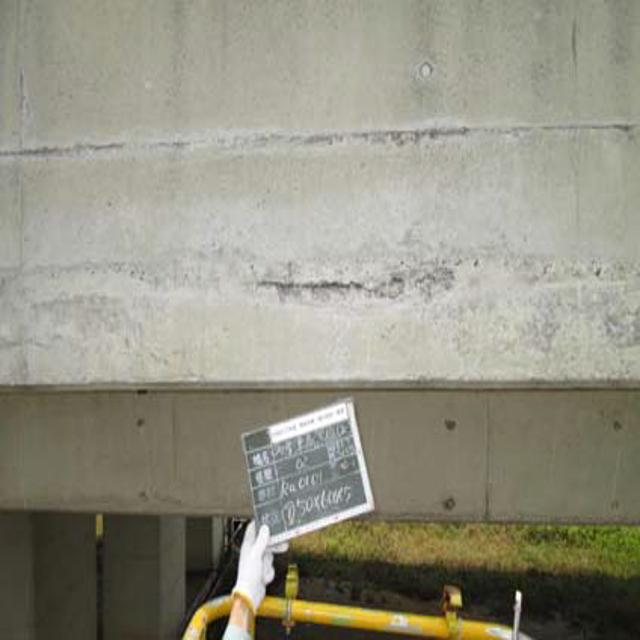spalling: (247, 243, 480, 328)
